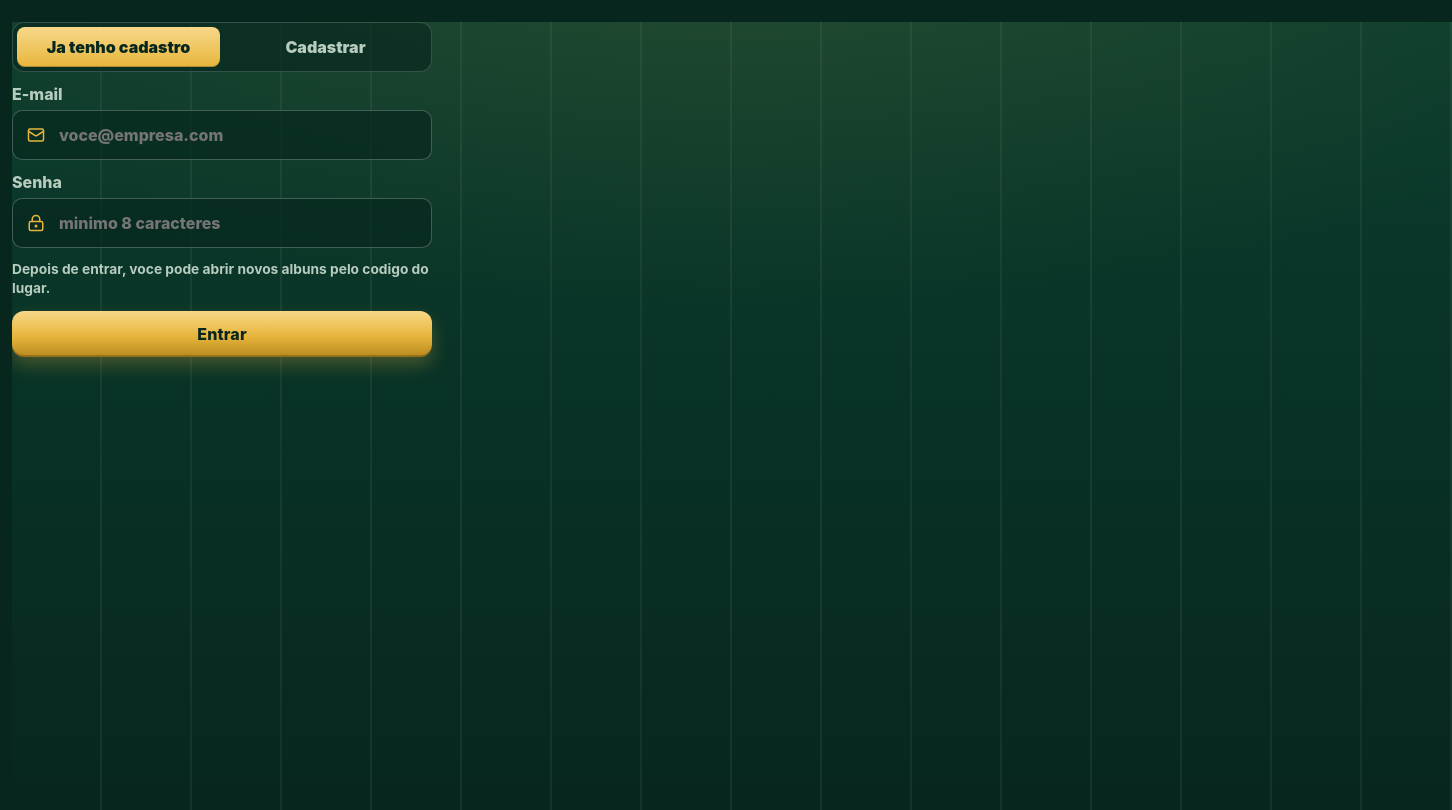
Test case: SignInForm › keeps the form usable and shows an inline error when credentials fail
Type "ana@example.com" into the field labelled "E-mail" at [238, 135], box [59,111,417,159]
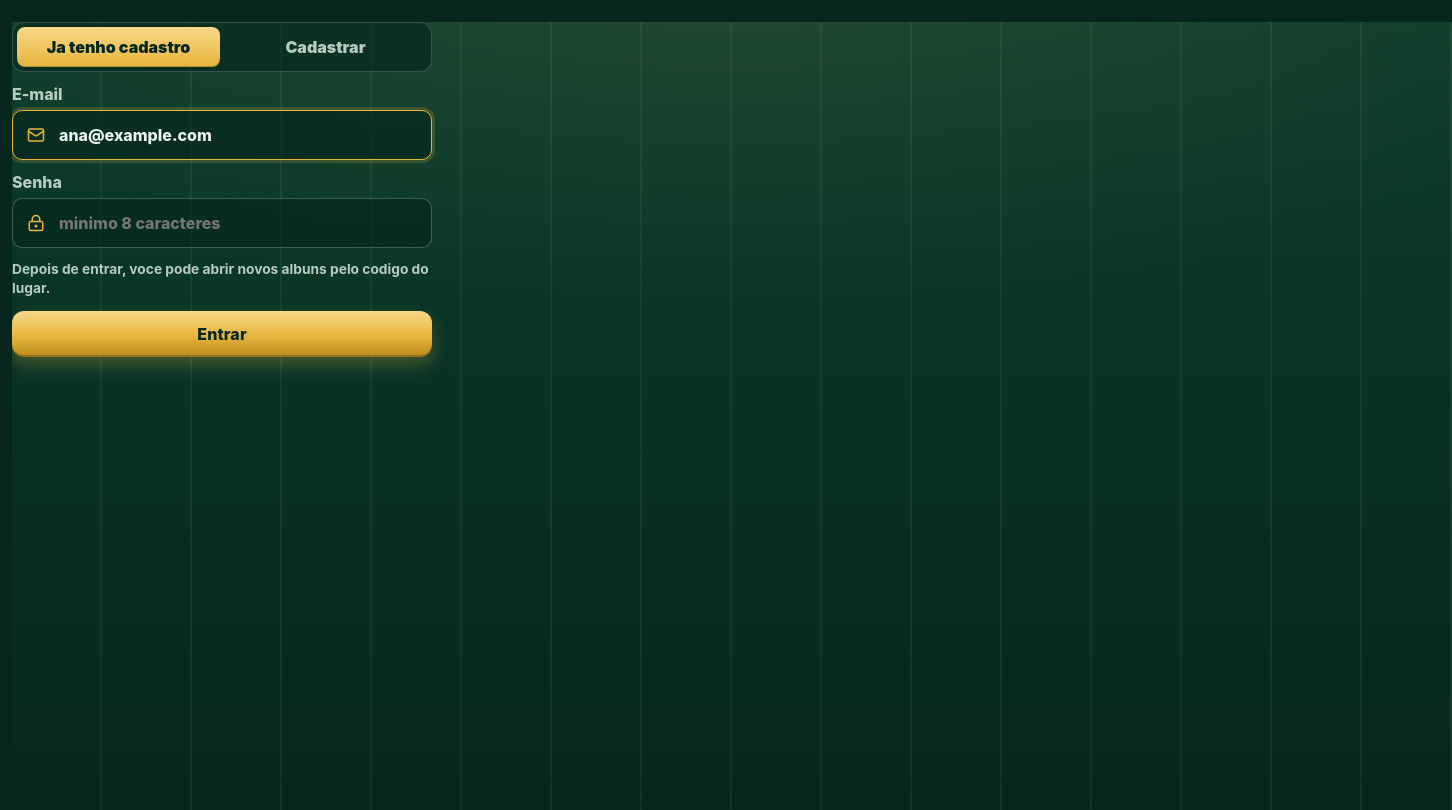
Type "senha-errada" into the password field labelled "Senha" at [238, 223], box [59,199,417,247]
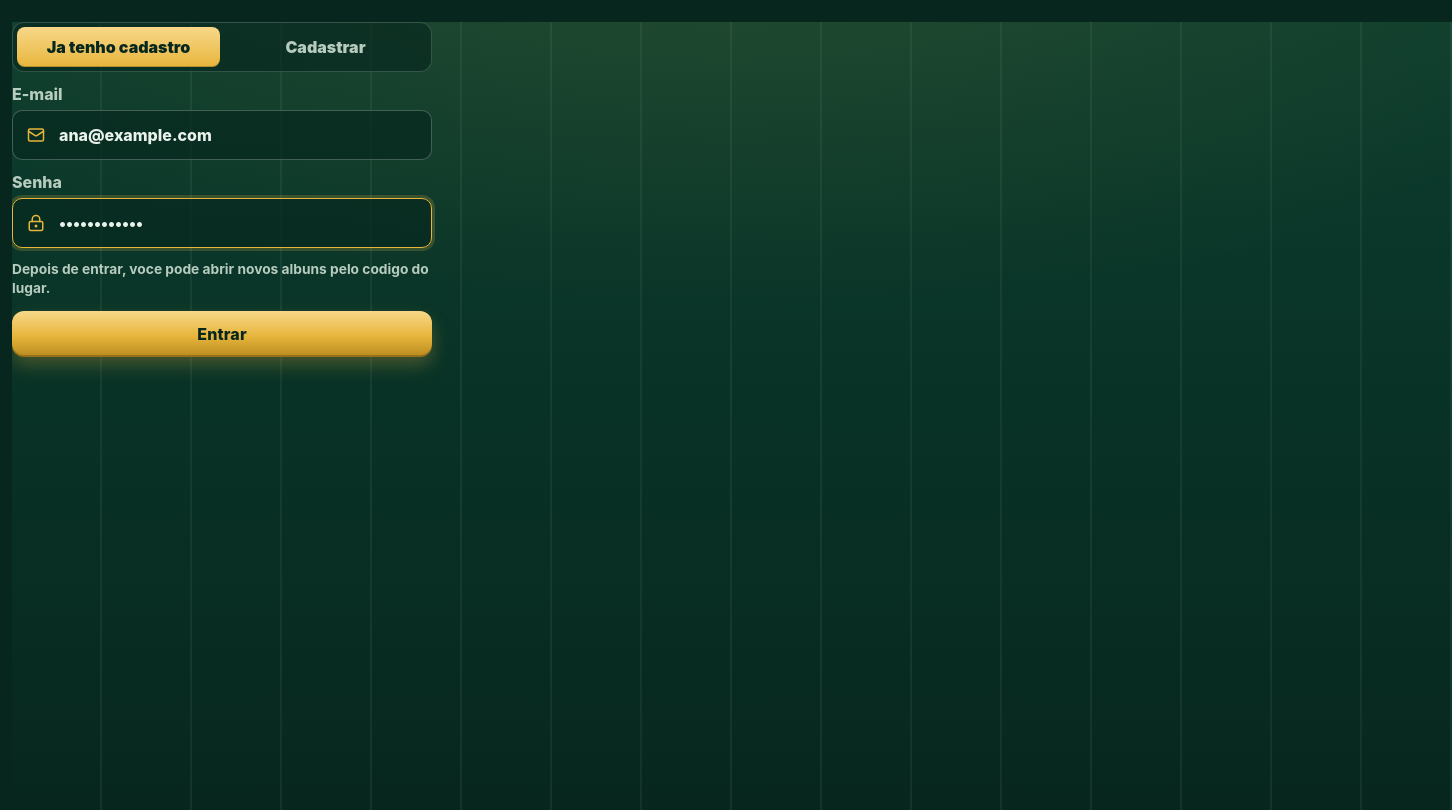
Click the button "Entrar" at [222, 334], box [12,310,432,356]
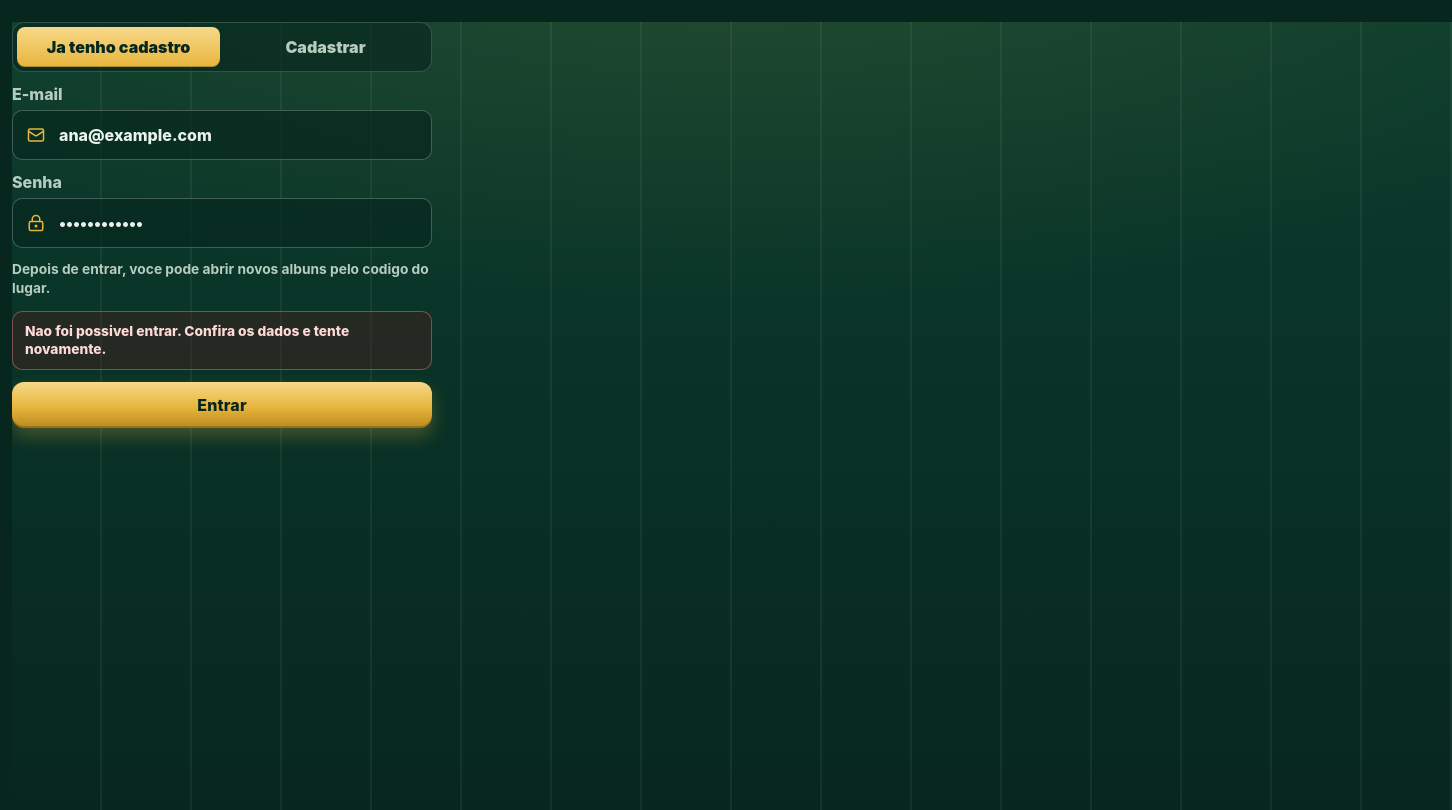
Expected: the button "Entrar" is enabled, [12,382,432,428]
Expected: the text "Nao foi possivel entrar. Confira os dados e tente novamente." is shown, [12,310,432,370]
